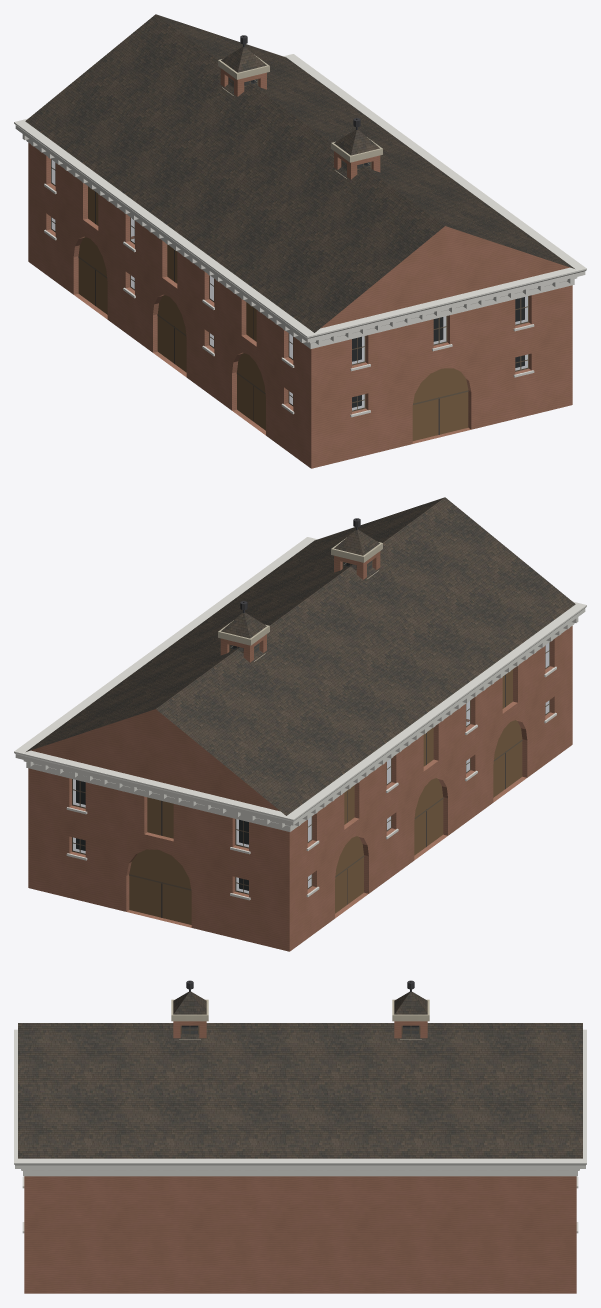
Rendered from wrights_stable_1871__stable_1871.glb.
The picture shows the model from 3 angles, top to bottom: view 1: azimuth 30°, elevation 25°; view 2: azimuth 150°, elevation 25°; view 3: azimuth 270°, elevation 25°; orthographic projection. The views are drawn at different scales.
Parts seen in each view (by area): view 1: wrights_stable_1871__stable_1871; view 2: wrights_stable_1871__stable_1871; view 3: wrights_stable_1871__stable_1871.
Boxes of the visible parts, x1,y1,x2,y2 form: wrights_stable_1871__stable_1871: (14,14,586,468); wrights_stable_1871__stable_1871: (14,497,586,951); wrights_stable_1871__stable_1871: (14,980,586,1293).
Bounding box in the file's own units: 17.12 × 15 × 31.12.
Materials: 9 (3 with a texture image).
